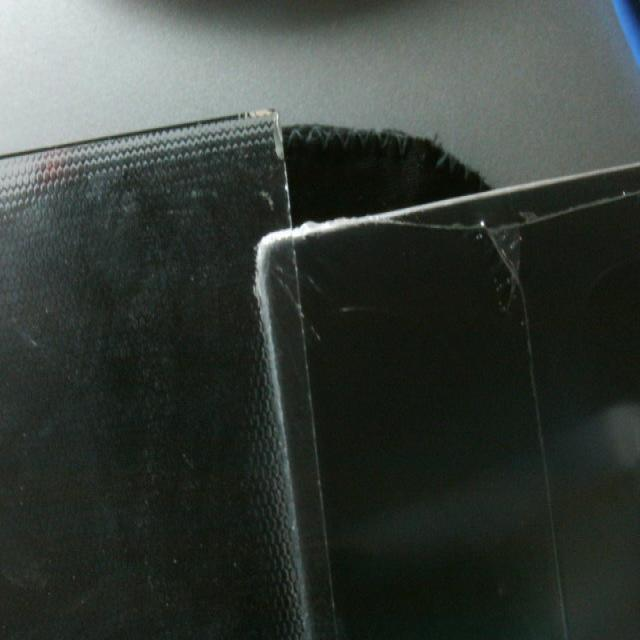edge_chip: (240, 98, 290, 165)
